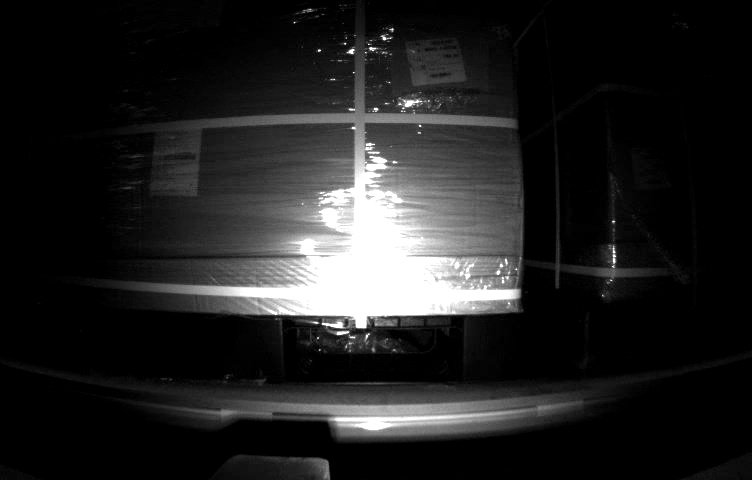True Barcode: (404, 36, 468, 83)
